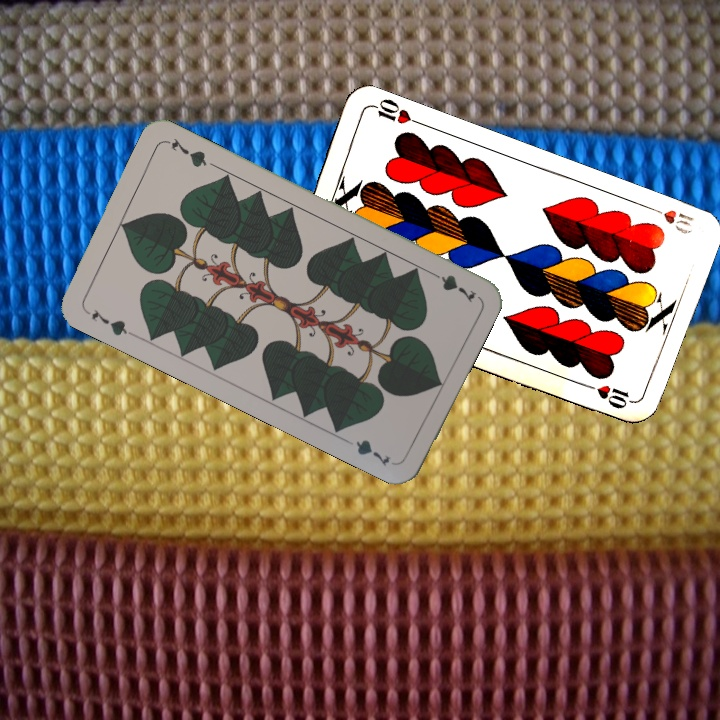G7: (424, 266, 479, 305), (81, 305, 136, 339)
H10: (642, 201, 696, 237)
